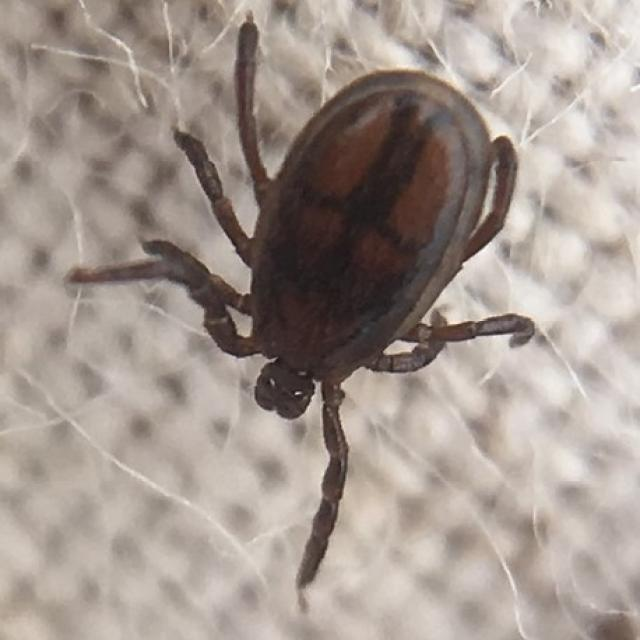Ixodes Ricinus-M: (68, 22, 538, 594)
